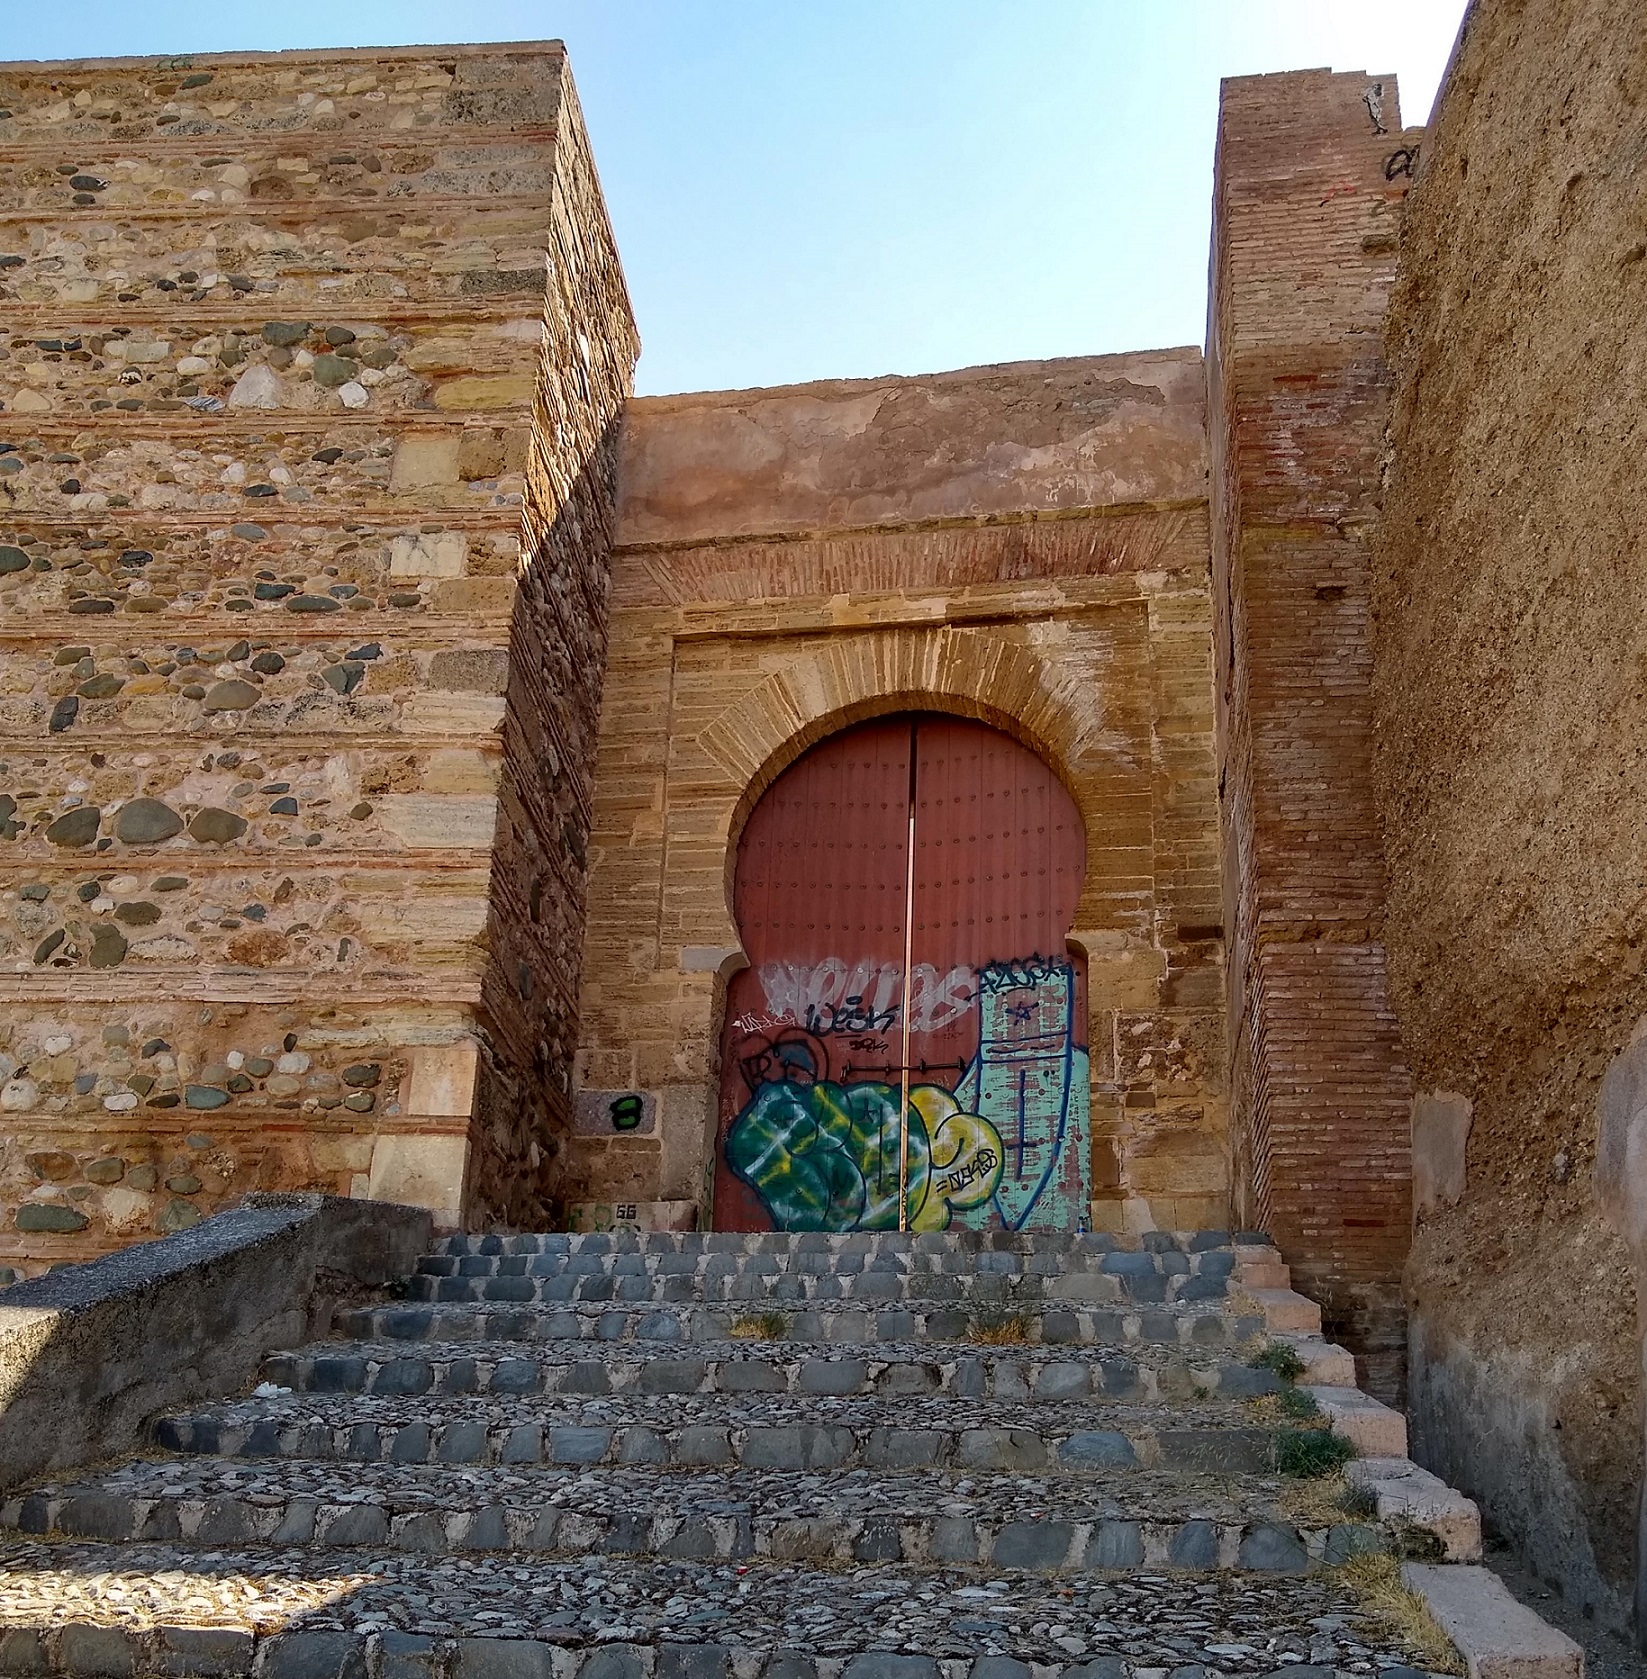arco-herradura: (698, 664, 1119, 990)
